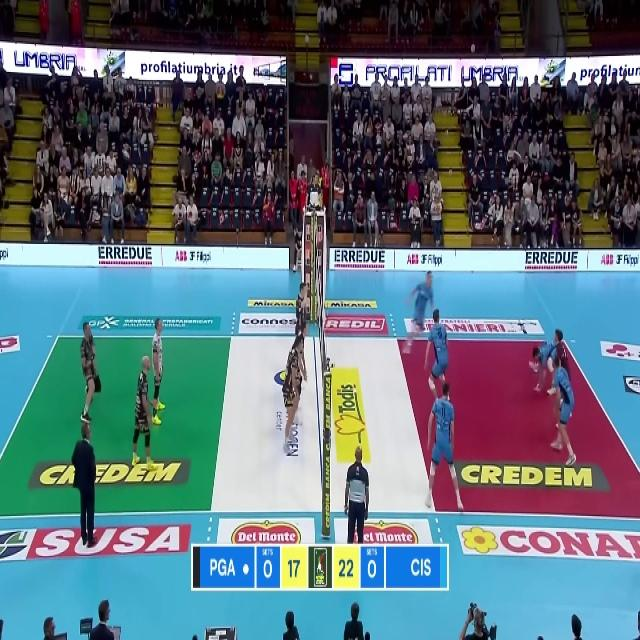volleyball court: (0, 333, 638, 516)
